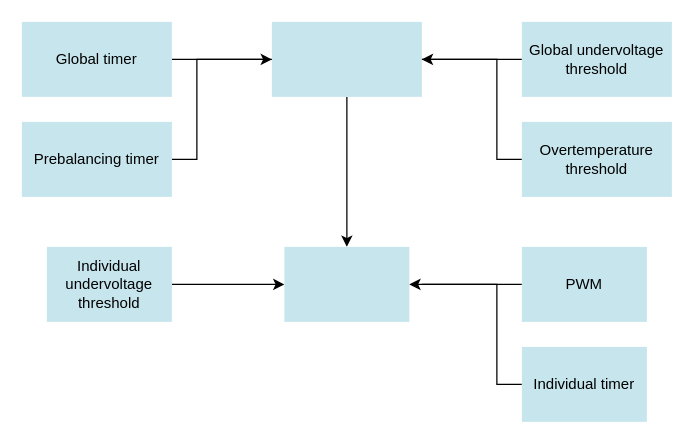
Some shapes in this 693 by 443 pixel diagram are drawn without their labels. Each missing label, with the box of its shape:
Global enable flag: (271, 21, 421, 96)
Individual channel enable: (284, 246, 409, 321)
